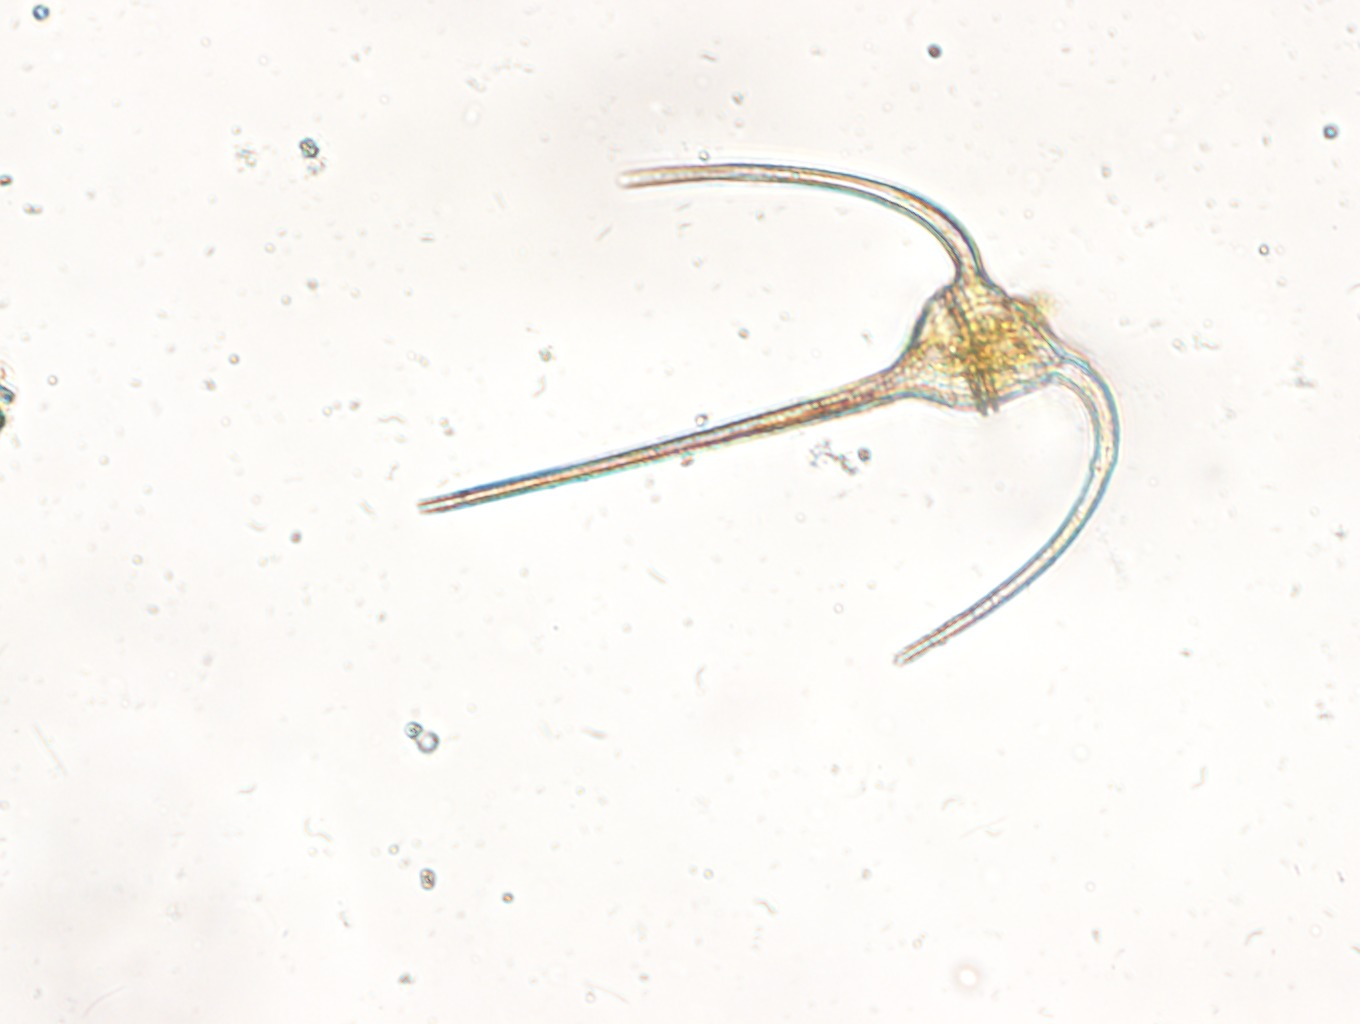ceratium trichoceros: (384, 136, 1130, 668)
